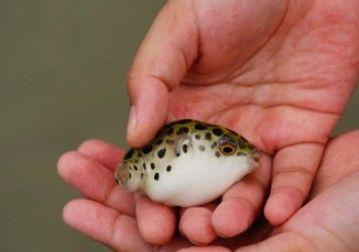Green Spotted Puffer: (118, 116, 267, 209)
